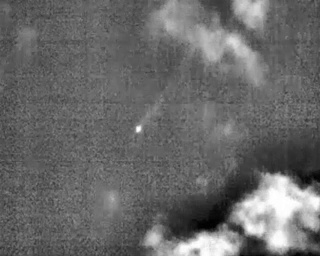AIRPLANE: (283, 32, 291, 42)
